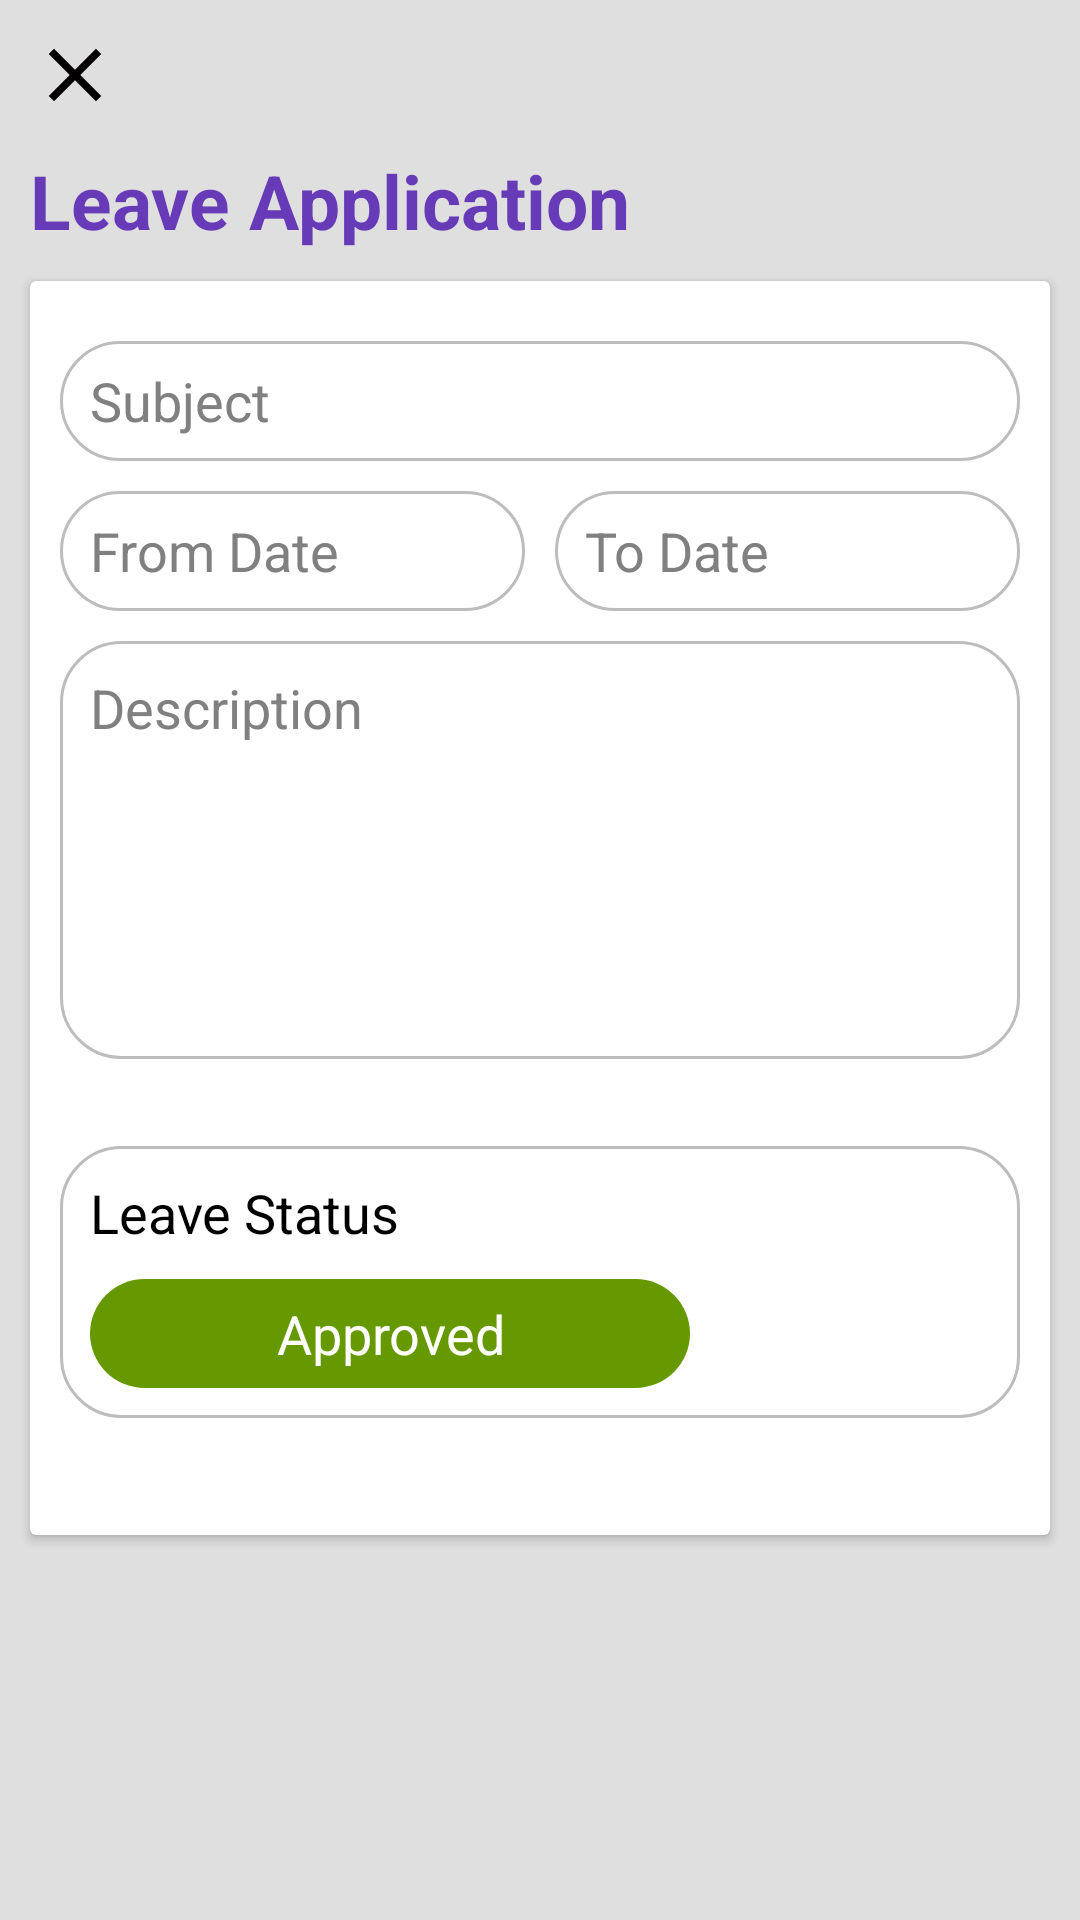

Named icons in this screenshot (1080*1920) and their bounding boxes, (x1, y1, x2, y2):
close: (49, 49, 101, 101)
